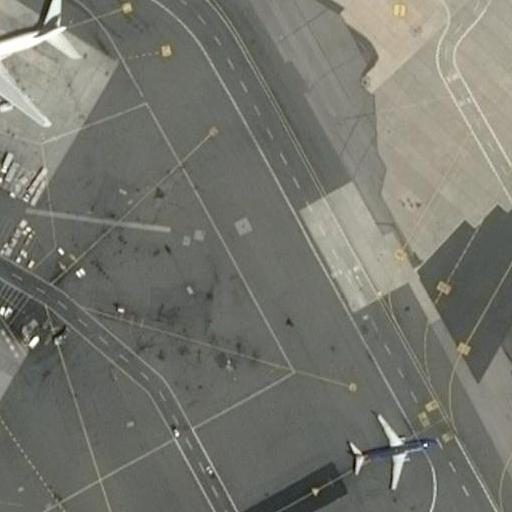Aircraft: (0, 0, 81, 132), (339, 405, 433, 496)
